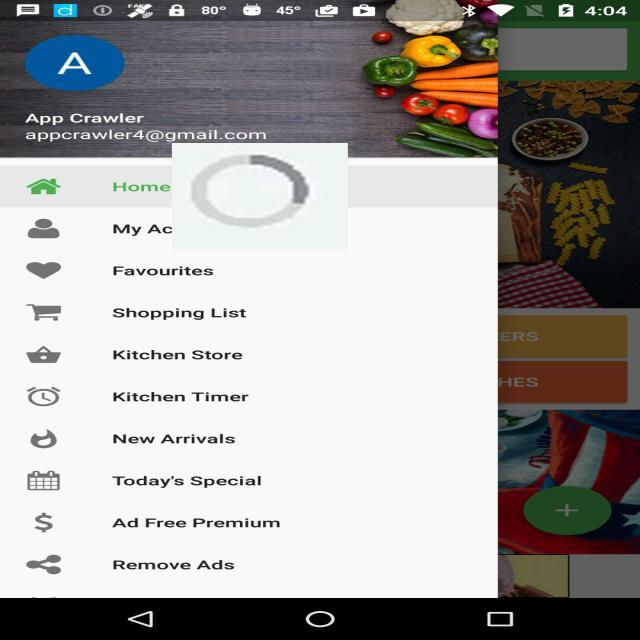misdirection: (172, 143, 348, 250)
